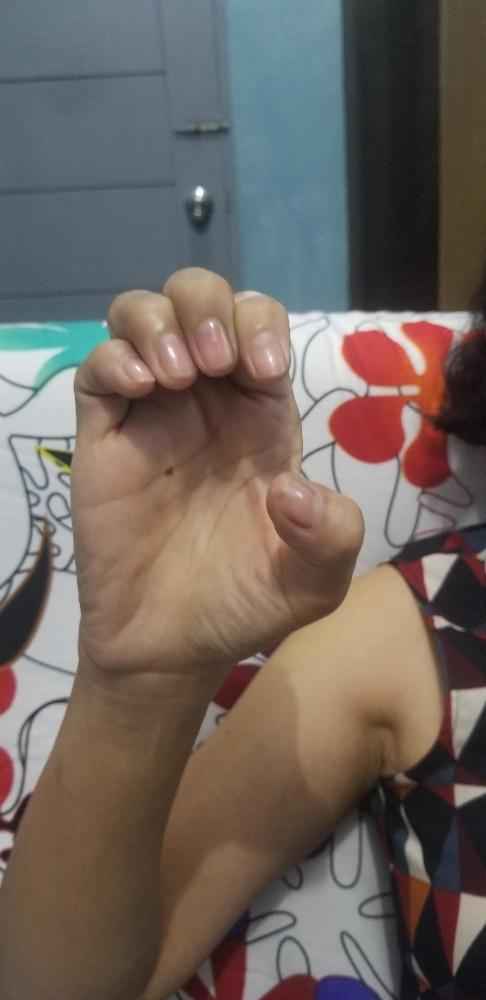e: (68, 262, 363, 674)
